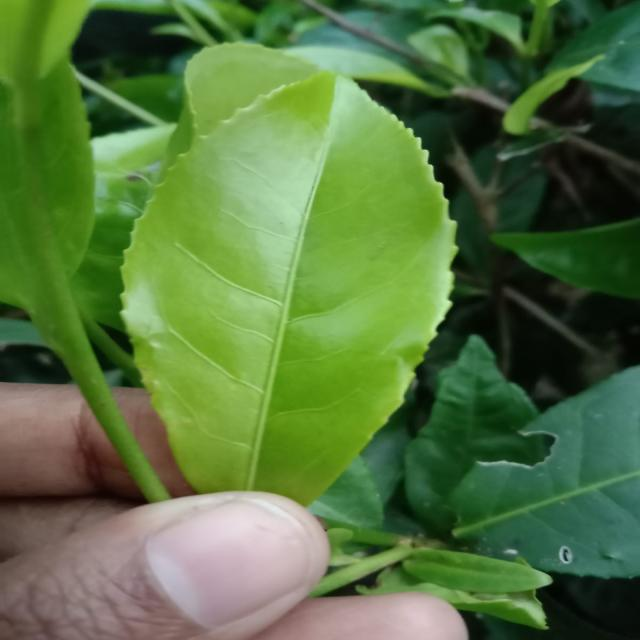Category C 4-7 days: (110, 50, 474, 542)
